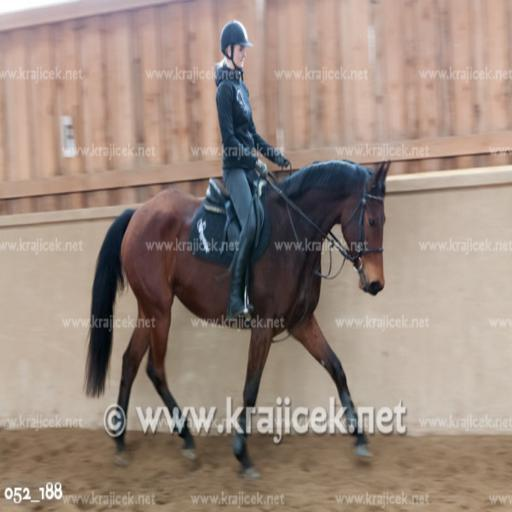horse: (82, 154, 392, 482)
